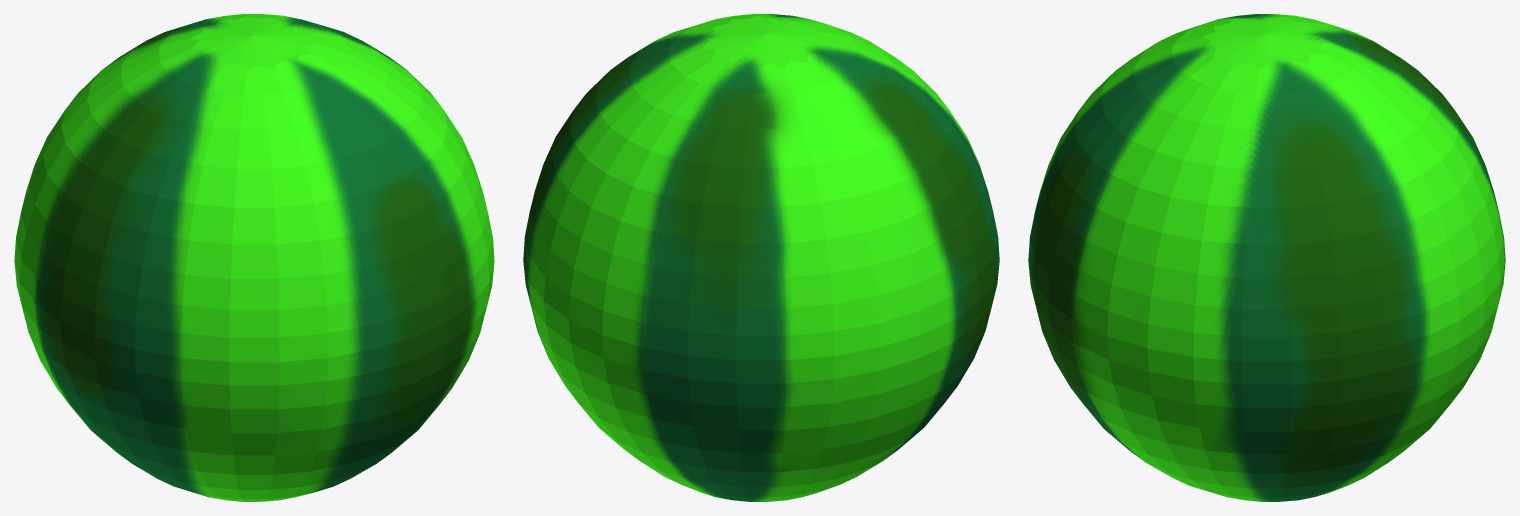
File: Watermelon.glb
3 views of the same model, side by side, from view 1: azimuth 30°, elevation 25°; view 2: azimuth 150°, elevation 25°; view 3: azimuth 270°, elevation 25° (orthographic).
Parts seen in each view (by area): view 1: Cylinder; view 2: Cylinder; view 3: Cylinder.
Part boxes in pixels (x1=…): Cylinder: x1=14, y1=14, x2=494, y2=501; Cylinder: x1=523, y1=14, x2=999, y2=501; Cylinder: x1=1028, y1=14, x2=1505, y2=501.
Size of the model in its own units: 1.93 by 1.99 by 1.94.
Materials: 1 (1 with a texture image).
